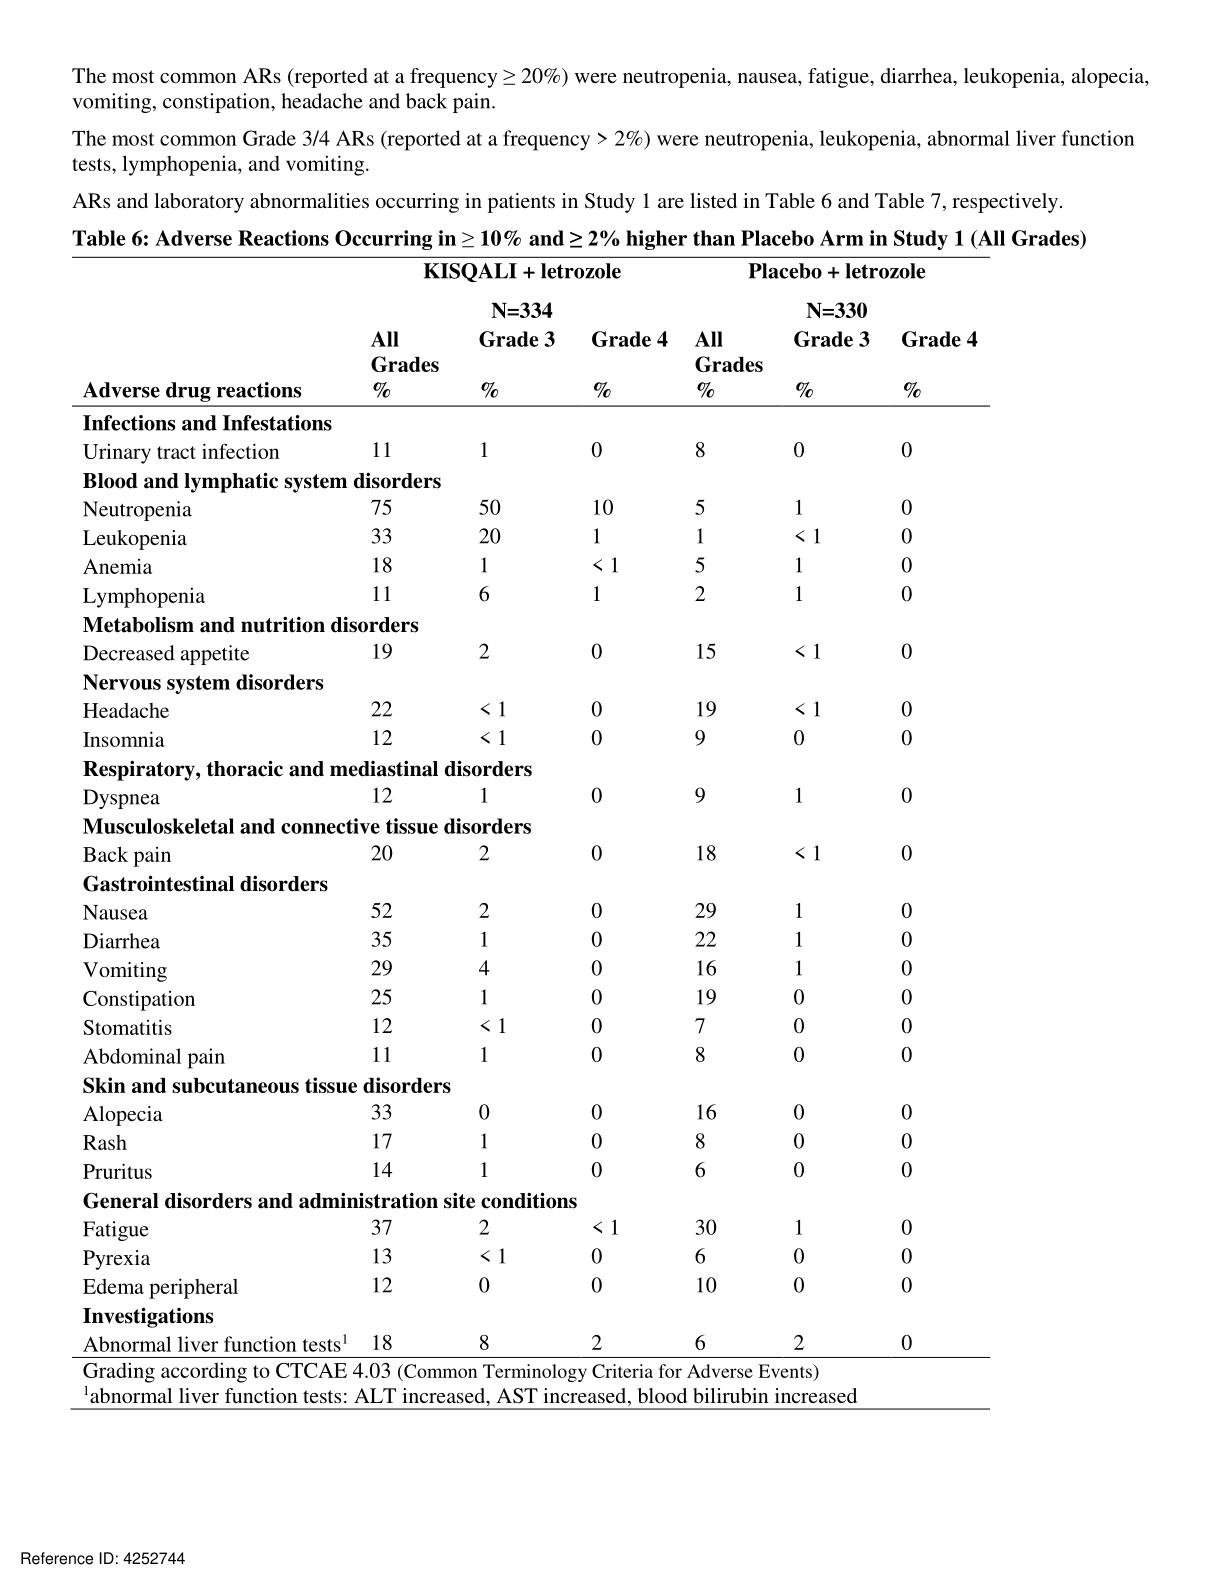partial_lined_merged_cells: (69, 252, 994, 1360)
